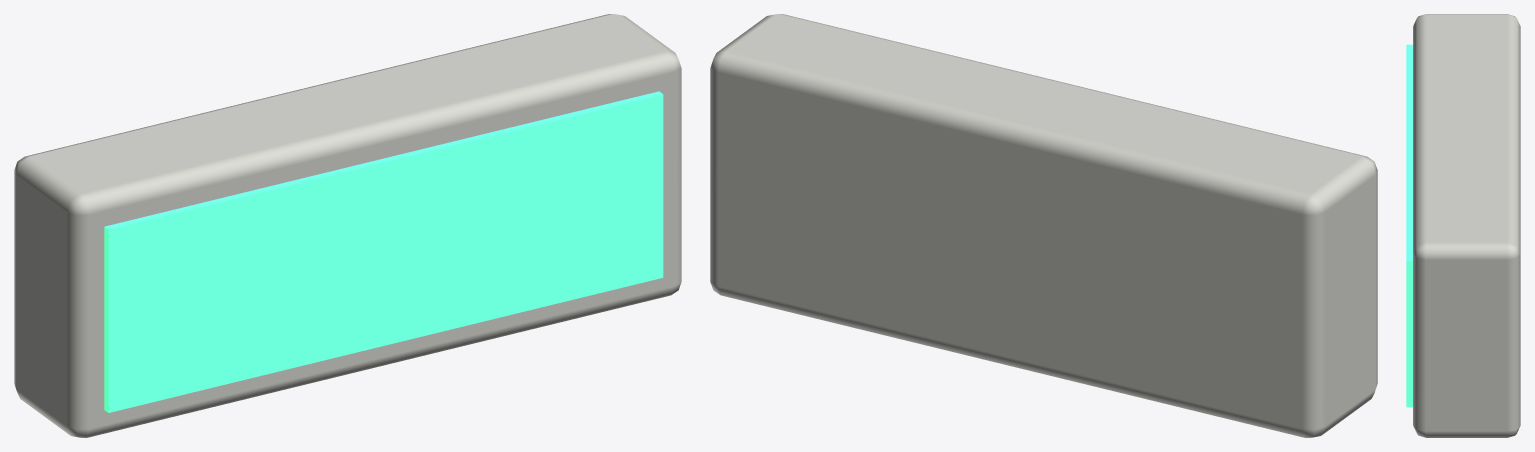
File: exit_sign.glb
3 views of the same model, side by side, from view 1: azimuth 30°, elevation 25°; view 2: azimuth 150°, elevation 25°; view 3: azimuth 270°, elevation 25° (orthographic). The views are drawn at different scales.
Visible parts, largest first — view 1: exit_sign; view 2: exit_sign; view 3: exit_sign.
Part boxes in pixels (x1,y1,x2,y2): exit_sign: [14, 14, 681, 437]; exit_sign: [710, 14, 1377, 437]; exit_sign: [1406, 14, 1520, 437].
Bounding box in the file's own units: 0.42 × 0.16 × 0.085.
